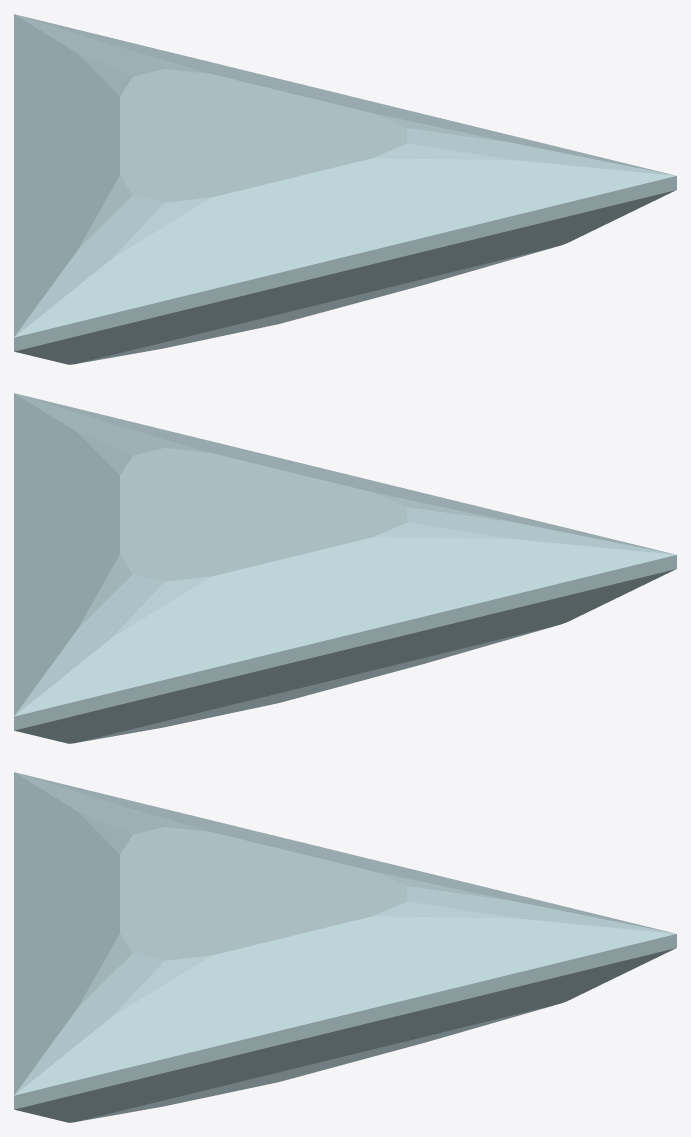
Rendered from armonia.glb.
3 views of the same model, one above another, from view 1: azimuth 30°, elevation 25°; view 2: azimuth 150°, elevation 25°; view 3: azimuth 270°, elevation 25° (orthographic).
Visible parts, largest first — view 1: Armonia_Trillon; view 2: Armonia_Trillon; view 3: Armonia_Trillon.
Part boxes in pixels (<box>): Armonia_Trillon: <box>14,14,676,364</box>; Armonia_Trillon: <box>14,393,676,743</box>; Armonia_Trillon: <box>14,772,676,1122</box>.
Bounding box in the file's own units: 1.5 × 0.3854 × 1.3.
